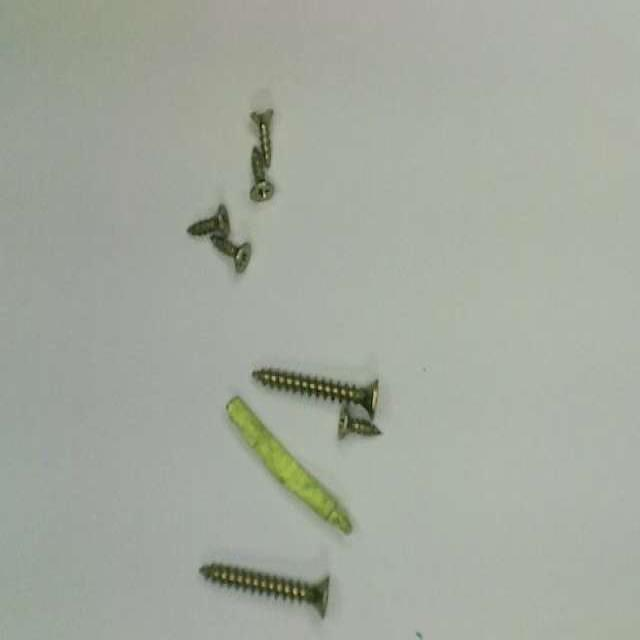Parafuso: (200, 563, 328, 617), (253, 368, 378, 416), (339, 405, 381, 439), (212, 236, 251, 272), (188, 204, 229, 237), (250, 111, 273, 167), (250, 147, 273, 201)
